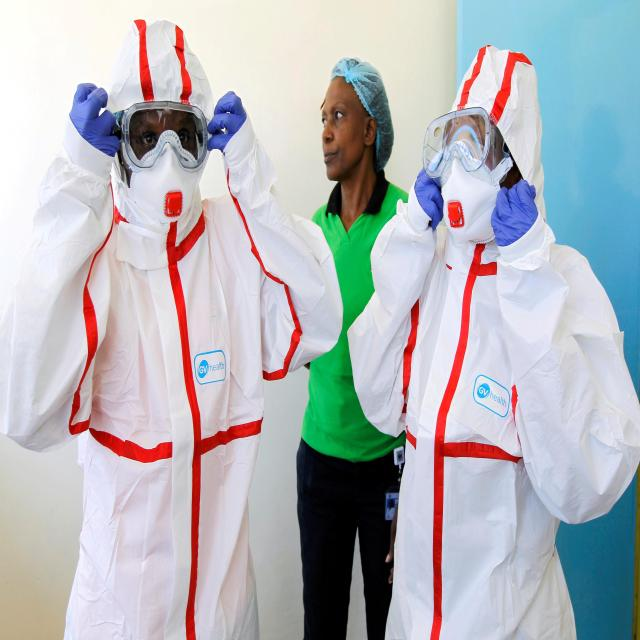Coverall: (0, 17, 340, 639), (349, 44, 638, 633)
Gloves: (69, 83, 122, 152), (492, 179, 539, 249), (207, 91, 246, 148), (416, 170, 444, 226)
Goggles: (120, 96, 208, 170), (422, 107, 498, 184)
Mask: (129, 132, 197, 236), (439, 160, 497, 244)
